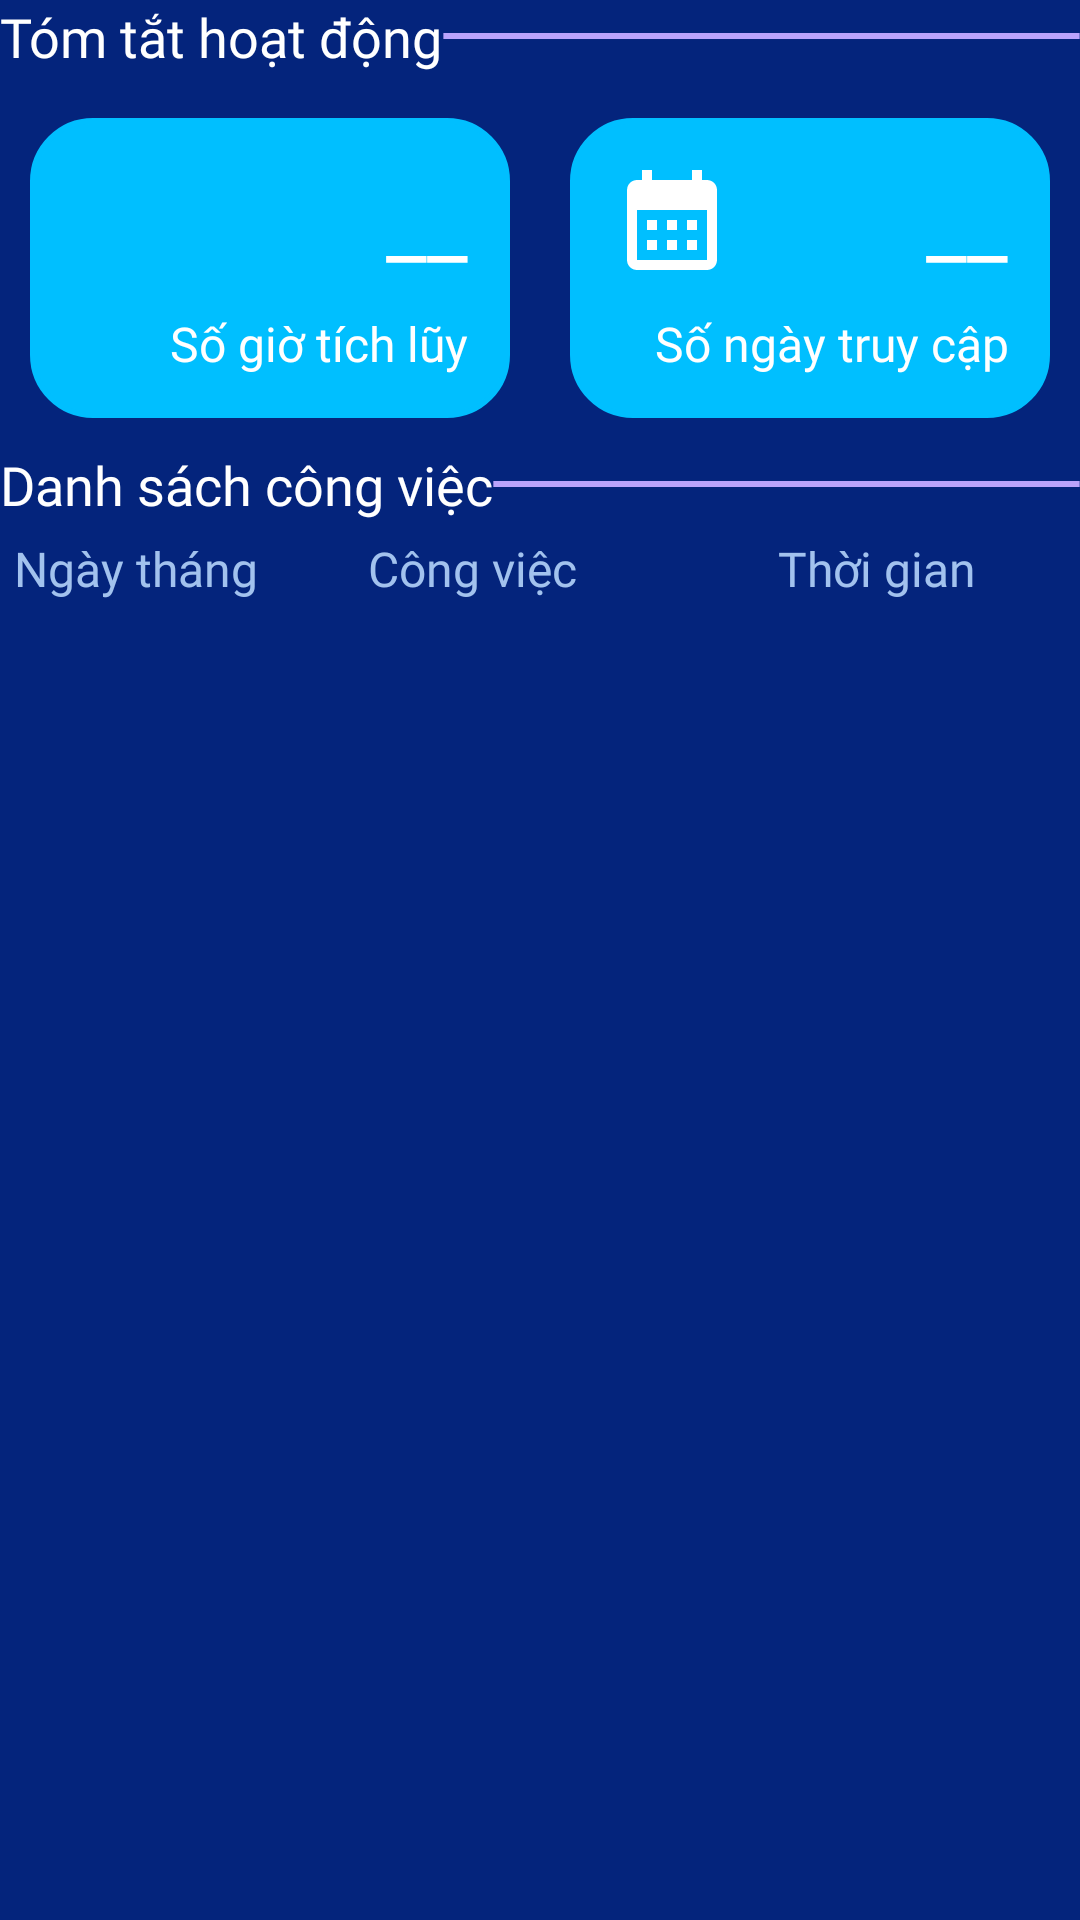

Icons on this 1080w x 1920h Android screen, each with its box as region(x1, y1, x2, y2):
calendar month: region(627, 170, 717, 270)
